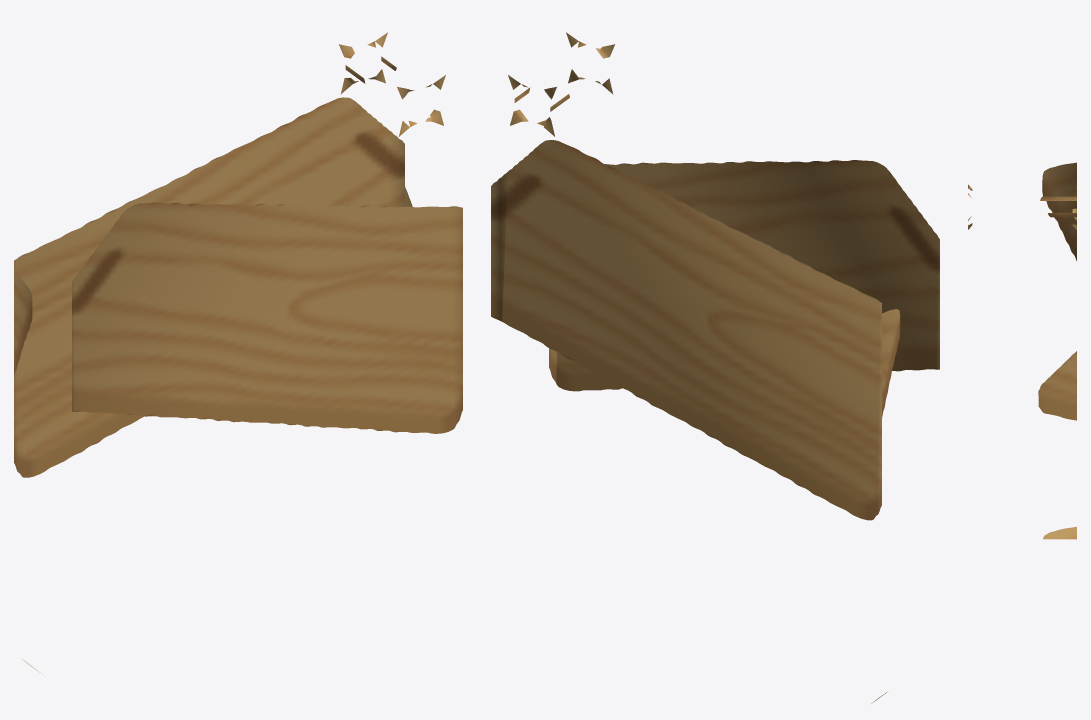
File: MYCuttingBoard.obj
3 views of the same model, side by side, from view 1: azimuth 30°, elevation 25°; view 2: azimuth 150°, elevation 25°; view 3: azimuth 270°, elevation 25° (orthographic). The views are drawn at different scales.
Visible parts, largest first — view 1: MYCuttingBoard_1, MYCuttingBoard_0; view 2: MYCuttingBoard_1, MYCuttingBoard_0; view 3: MYCuttingBoard_0.
Boxes of the visible parts, x1,y1,x2,y2 form: MYCuttingBoard_1: (14,32,462,477); MYCuttingBoard_0: (14,47,439,674); MYCuttingBoard_1: (491,32,939,520); MYCuttingBoard_0: (514,47,900,703); MYCuttingBoard_0: (968,162,1076,539).
Bounding box in the file's own units: 0.5837 × 0.8 × 0.1502.
